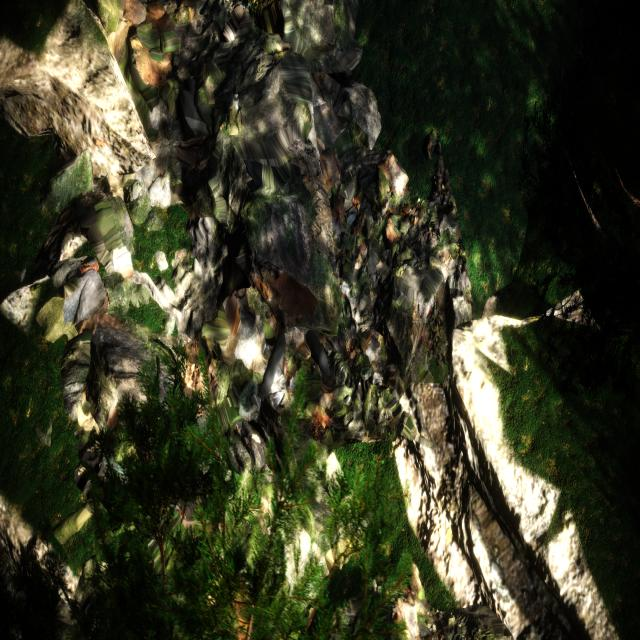Human: (256, 311, 356, 417)
